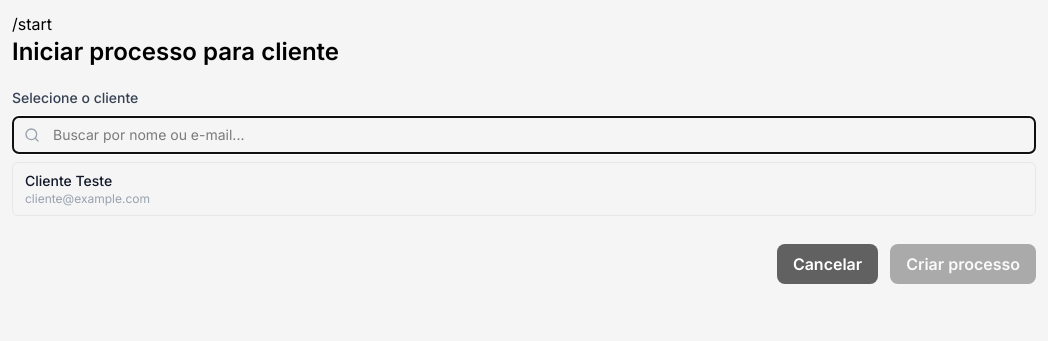
Test case: StartProcessForClientModal delegated EMAIL flow › reports creation errors inline and releases busy state
What coordinates should you click on to do the following:
click the button "Cliente Teste cliente@example.com"
I would click on:
 (48, 180)
Its box is [13,163,1035,215].
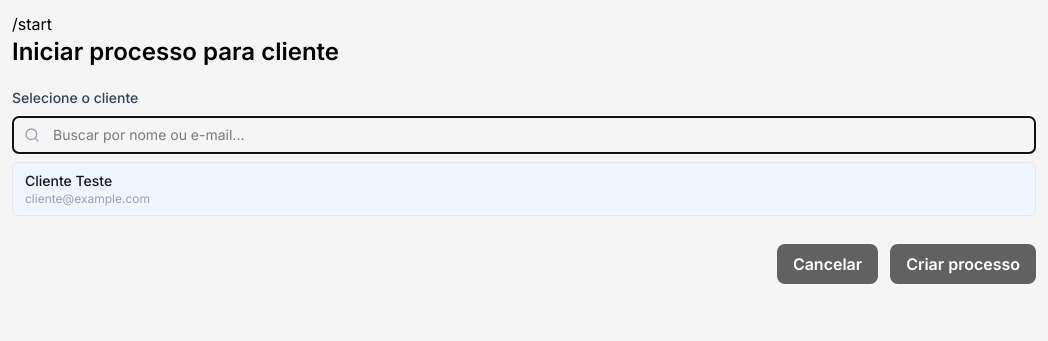
What coordinates should you click on to do the following:
click the button "Criar processo"
I would click on:
 (963, 264)
Its box is [890,244,1036,284].
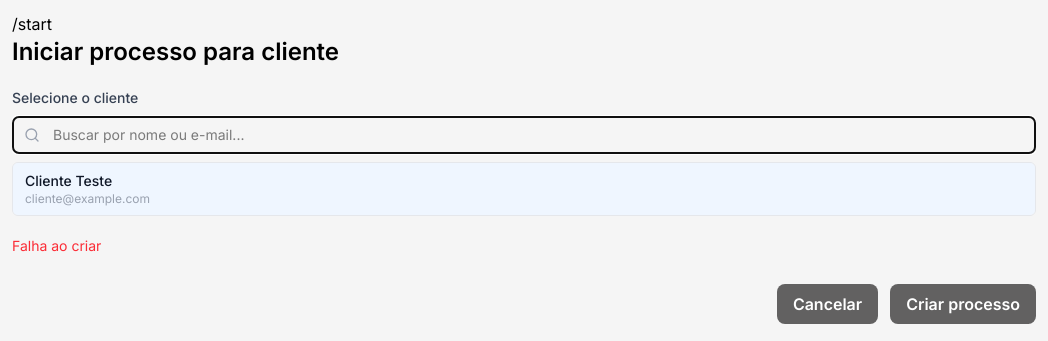
Expected: the text with test id "location" reads "/start", [12,14,52,34]
Now the message reads "Falha ao criar", box [12,237,101,254]
